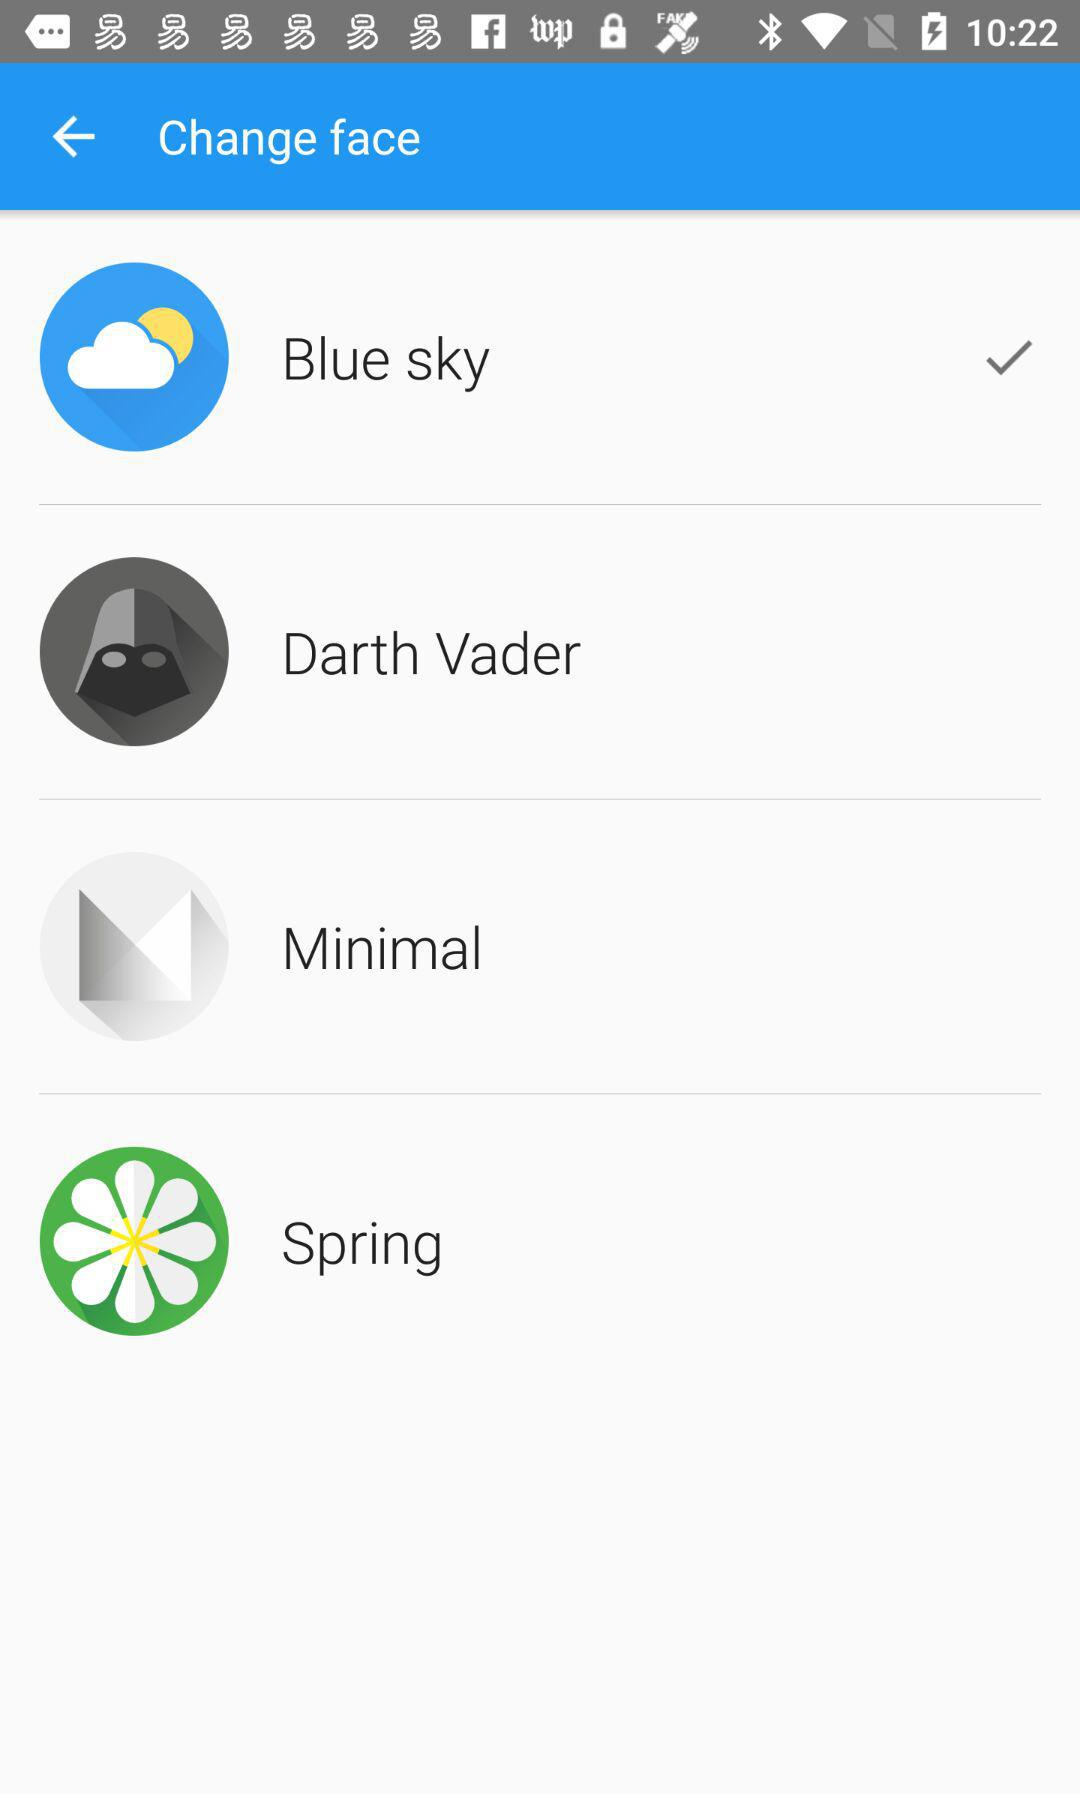Icon: (51, 114, 97, 160), (985, 340, 1033, 377)
Image: (40, 261, 231, 454), (40, 1146, 231, 1337), (40, 557, 231, 748), (40, 852, 231, 1042)
Text: (284, 630, 582, 677), (160, 117, 421, 167), (286, 336, 491, 393), (284, 924, 480, 971), (283, 1220, 441, 1278)
Toolbar: (1, 63, 1080, 211)
UpperTaskBar: (1, 1, 1080, 64)
